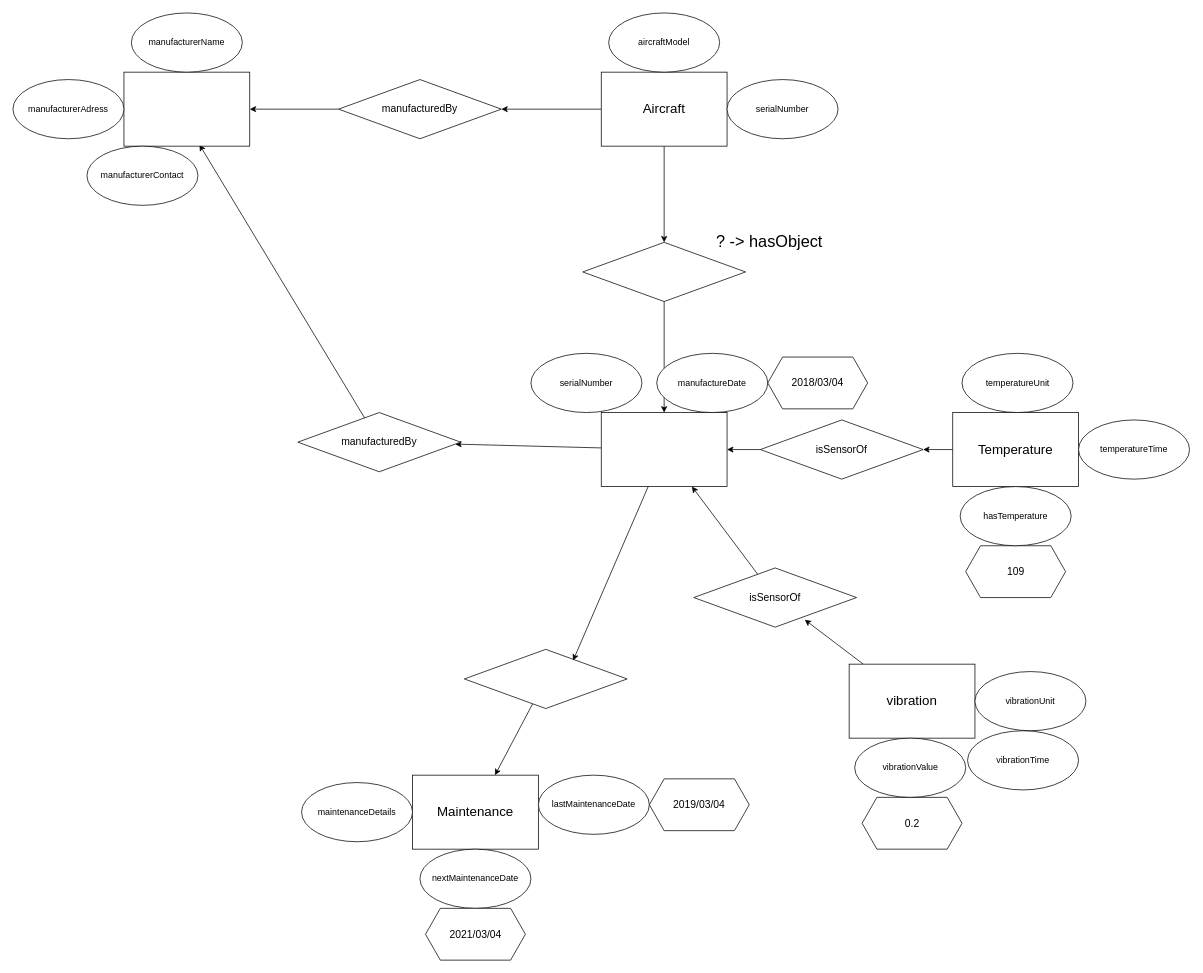
This 1203x973 diagram has some shape labels left out. The shapes that lost their labels are listed below. From the top down, each one's centre as x and y in pixels, then its label:
At point (186, 108): "Manufacturer".
At point (664, 272): "hasEngine".
At point (664, 449): "Engine".
At point (545, 679): "hasMaintenanceRecord".
